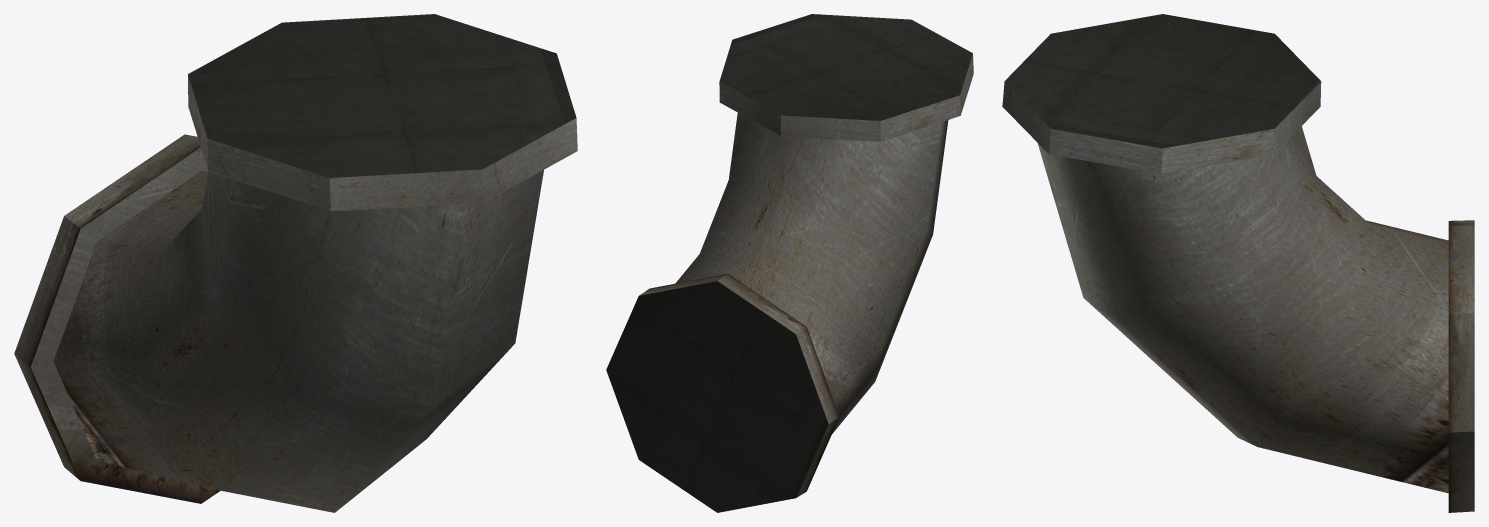
The model's file is SM_Vent_02.FBX.
3 renders of one model, left to right at view 1: azimuth 30°, elevation 25°; view 2: azimuth 150°, elevation 25°; view 3: azimuth 270°, elevation 25°, orthographic. The views are drawn at different scales.
Visible parts, largest first — view 1: SM_Vent_02; view 2: SM_Vent_02; view 3: SM_Vent_02.
Part boxes in pixels (box(x1,y1,x2,y2)): SM_Vent_02: box(14, 14, 577, 512); SM_Vent_02: box(606, 14, 973, 512); SM_Vent_02: box(1002, 14, 1474, 512).
Bounding box in the file's own units: 0.6005 × 0.8881 × 0.8911.
